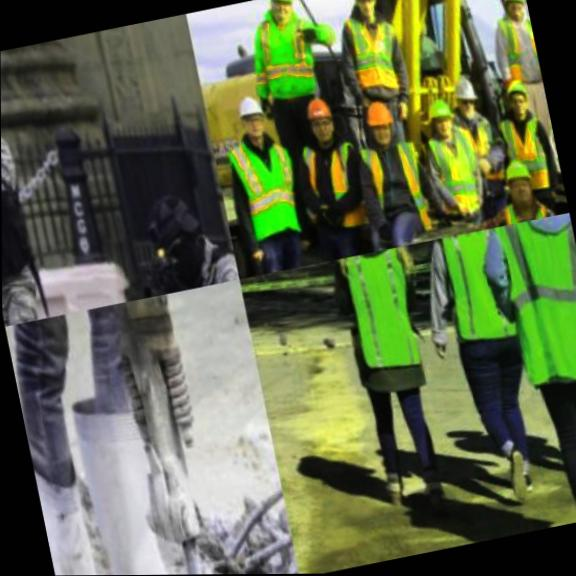safety_vest: (470, 212, 576, 413), (323, 245, 432, 381), (419, 225, 526, 356), (216, 133, 309, 244), (286, 131, 373, 239), (344, 135, 432, 239), (1, 115, 45, 286), (249, 14, 325, 109), (415, 124, 486, 222), (484, 103, 555, 198), (335, 14, 410, 101), (135, 236, 238, 297), (487, 9, 542, 86), (449, 106, 501, 169), (487, 192, 551, 226)
